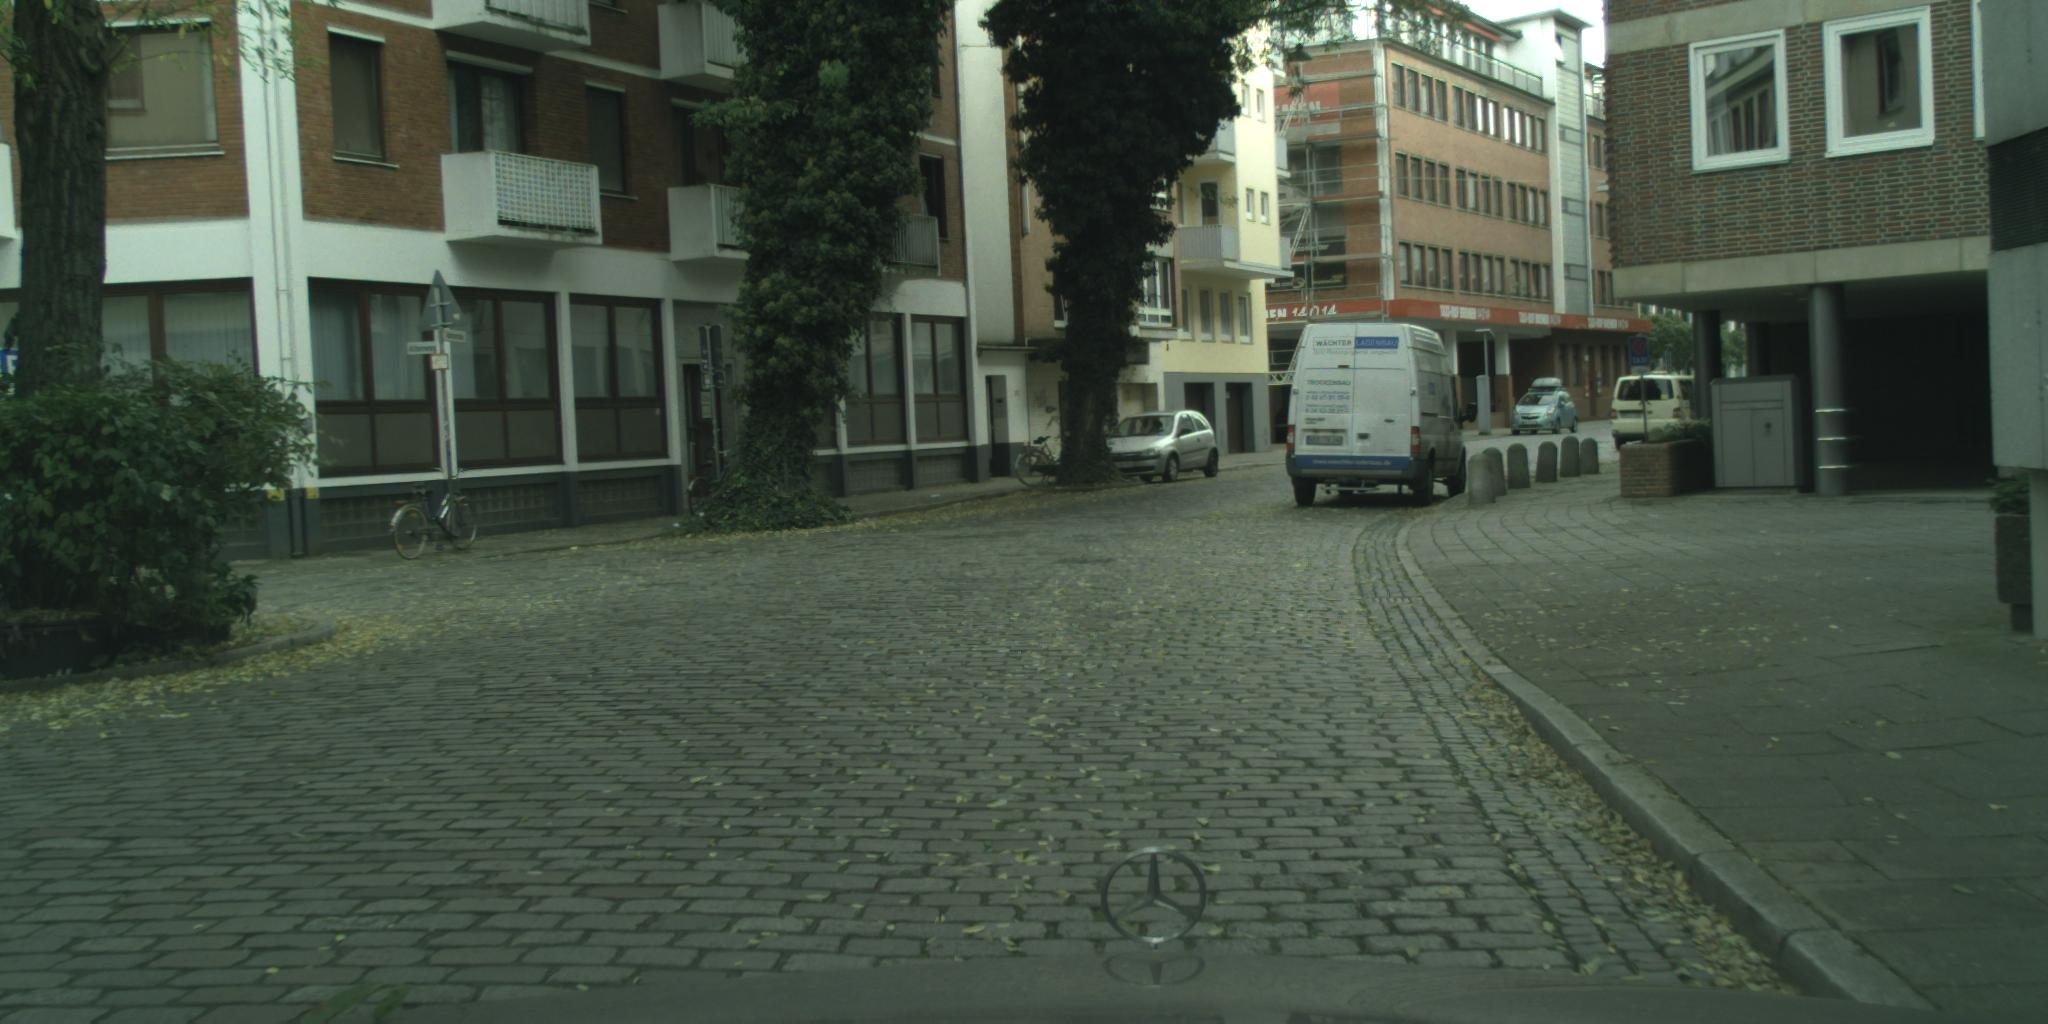bicycle: (391, 468, 479, 562), (687, 447, 737, 515), (1015, 436, 1062, 487)
car: (1287, 324, 1479, 509), (1098, 410, 1221, 485), (1610, 371, 1702, 453), (1511, 377, 1580, 436)
